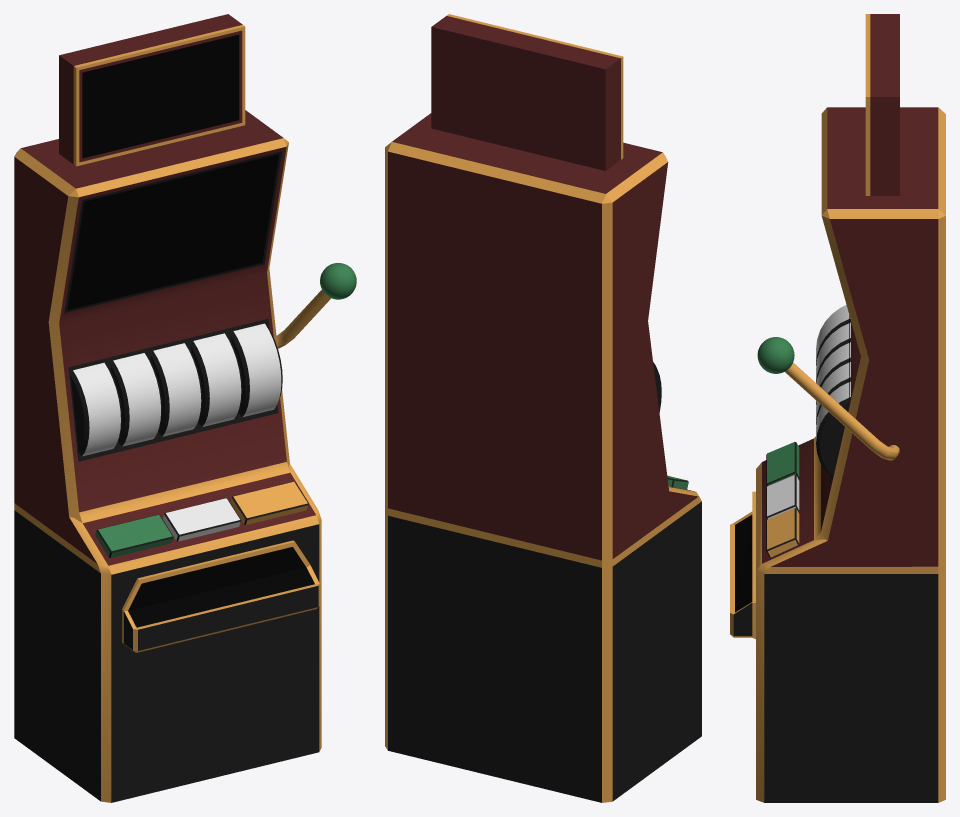
File: slotmachine pieces.fbx
3 views of the same model, side by side, from view 1: azimuth 30°, elevation 25°; view 2: azimuth 150°, elevation 25°; view 3: azimuth 270°, elevation 25° (orthographic). The views are drawn at different scales.
Parts seen in each view (by area): view 1: slotmachine.001, slotmachine.008, slotmachine.002, slotmachine.003, slotmachine.006, slotmachine.004, slotmachine.005, slotmachine.007; view 2: slotmachine.001, slotmachine.008; view 3: slotmachine.001, slotmachine.008, slotmachine.007, slotmachine.003, slotmachine.006, slotmachine.002, slotmachine.004, slotmachine.005.
Part boxes in pixels (bbox=[...]): slotmachine.001: bbox=[14, 14, 319, 570]; slotmachine.008: bbox=[14, 507, 321, 802]; slotmachine.002: bbox=[70, 362, 122, 456]; slotmachine.003: bbox=[231, 323, 282, 417]; slotmachine.006: bbox=[110, 353, 162, 446]; slotmachine.004: bbox=[150, 343, 202, 436]; slotmachine.005: bbox=[191, 333, 242, 426]; slotmachine.007: bbox=[276, 263, 356, 348]; slotmachine.001: bbox=[385, 14, 699, 564]; slotmachine.008: bbox=[385, 496, 701, 802]; slotmachine.001: bbox=[759, 14, 945, 570]; slotmachine.008: bbox=[730, 466, 945, 802]; slotmachine.007: bbox=[757, 337, 899, 460]; slotmachine.003: bbox=[816, 381, 850, 478]; slotmachine.006: bbox=[816, 322, 850, 383]; slotmachine.002: bbox=[816, 305, 850, 365]; slotmachine.004: bbox=[816, 342, 850, 404]; slotmachine.005: bbox=[816, 362, 850, 424].
Size of the model in its own units: 85.92 by 219 by 61.67.
